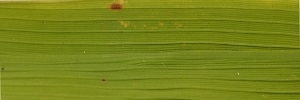RiceBrownSpot: (106, 1, 124, 14)
